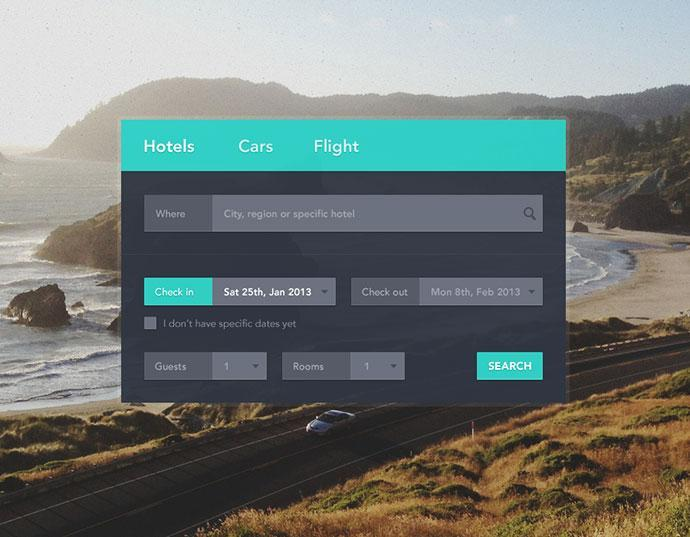button: (479, 353, 545, 381), (146, 279, 214, 305), (351, 279, 420, 304)
checkbox: (145, 317, 160, 332)
dropdown: (421, 277, 542, 306), (214, 279, 335, 307), (353, 352, 405, 382), (214, 352, 266, 380)
input: (214, 197, 544, 232)
label: (165, 317, 297, 334), (310, 132, 366, 162), (139, 135, 200, 160), (232, 133, 284, 158), (150, 202, 197, 225), (292, 362, 331, 374), (154, 361, 189, 374)
